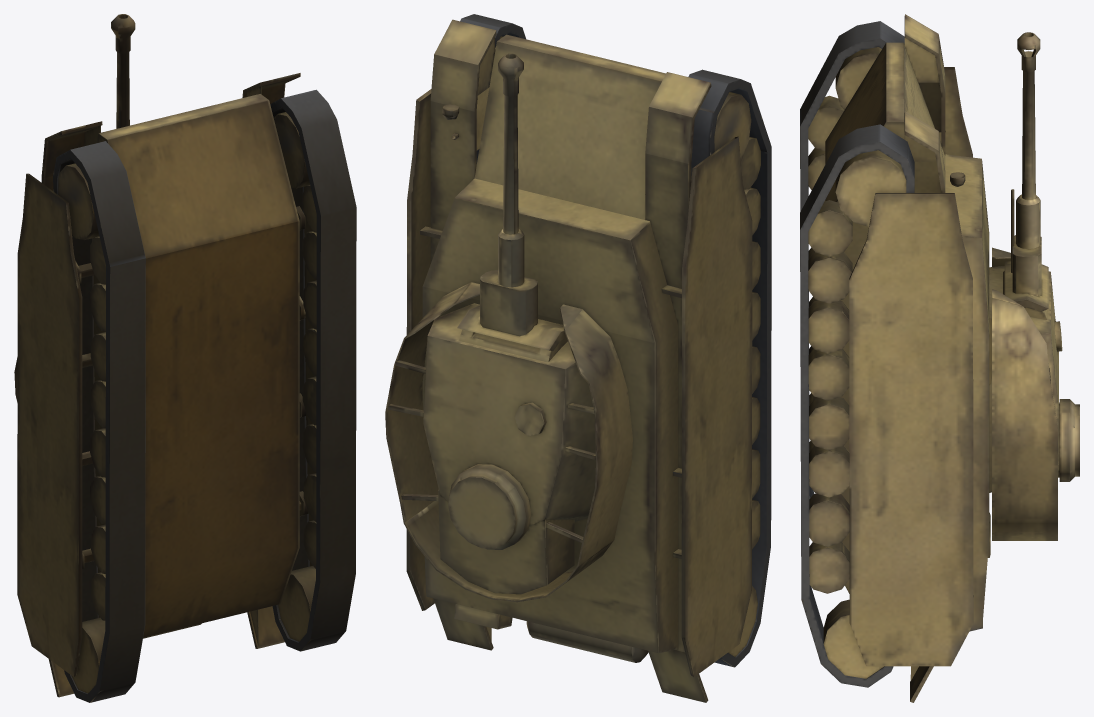
3 renders of one model, left to right at view 1: azimuth 30°, elevation 25°; view 2: azimuth 150°, elevation 25°; view 3: azimuth 270°, elevation 25°, orthographic. The views are drawn at different scales.
Parts seen in each view (by area): view 1: Pz.IV_H Body, Pz.IV_H Turret; view 2: Pz.IV_H Body, Pz.IV_H Turret; view 3: Pz.IV_H Body, Pz.IV_H Turret.
Part boxes in pixels (x1,y1,x2,y2): Pz.IV_H Body: (17,73,356,702); Pz.IV_H Turret: (14,14,135,402); Pz.IV_H Body: (406,14,771,702); Pz.IV_H Turret: (385,53,632,602); Pz.IV_H Body: (800,14,990,702); Pz.IV_H Turret: (989,32,1079,540).
Bounding box in the file's own units: 116 × 261 × 108.
